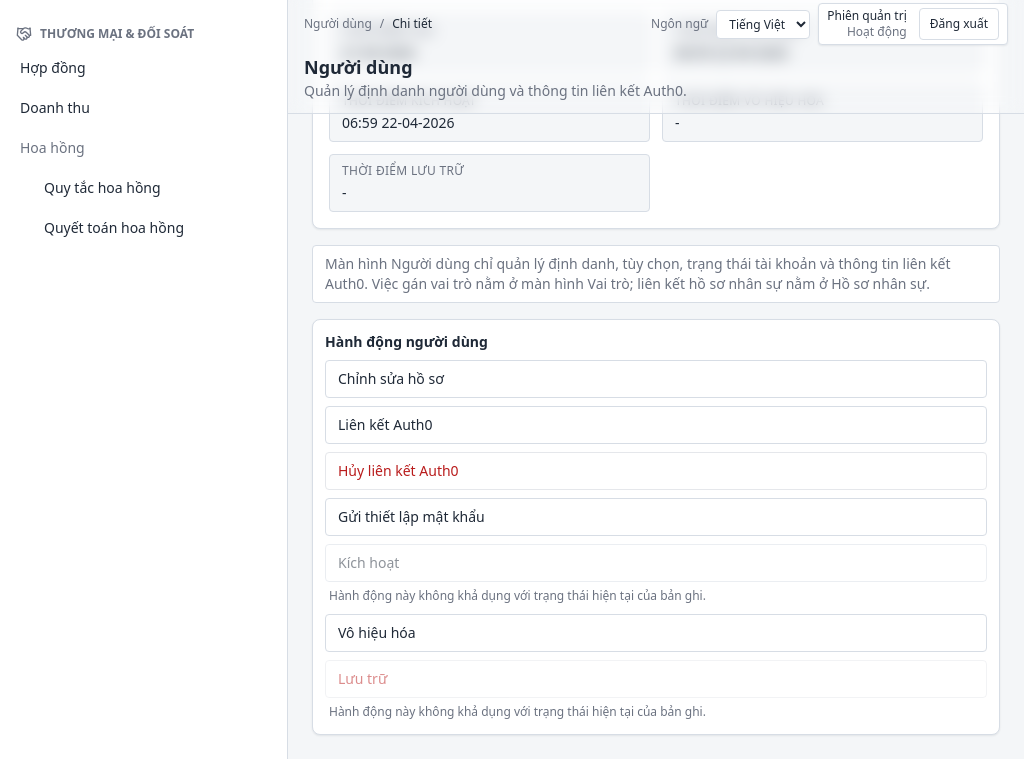
Scenario: user IA-1 surfaces › shows neutral feedback for backend_ticket password setup and does not claim email delivery
(page scrolled)
What coordinates should you click on to do the following:
click the button "Gửi thiết lập mật khẩu"
I would click on:
 (411, 516)
Its box is [325,498,987,536].
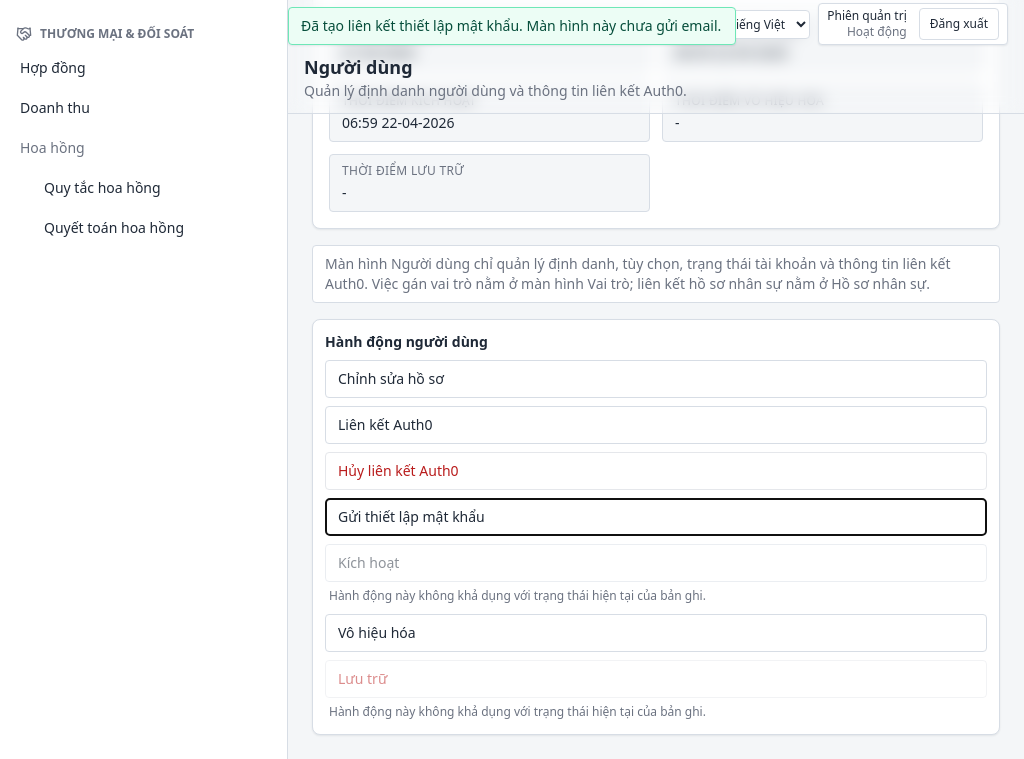
Expected: the text "Đã tạo liên kết thiết lập mật khẩu. Màn hình này chưa gửi email." is shown, [288,7,736,45]
